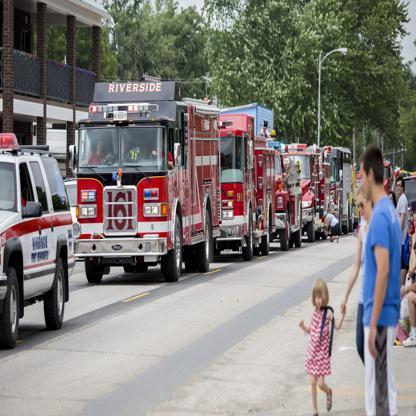fire-truck: (57, 51, 281, 350)
